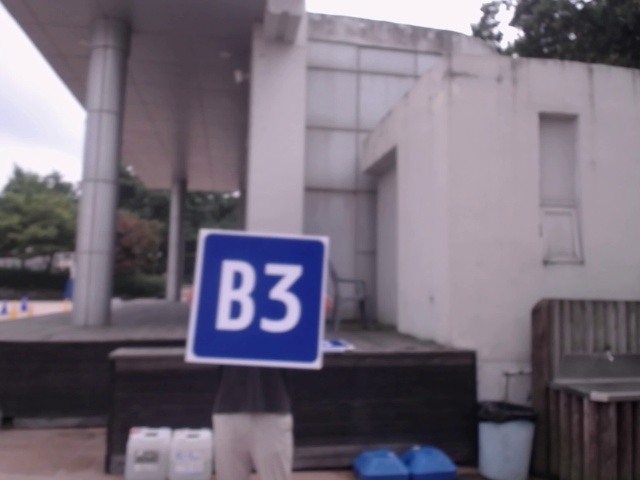delivery_b3: (189, 234, 326, 368)
